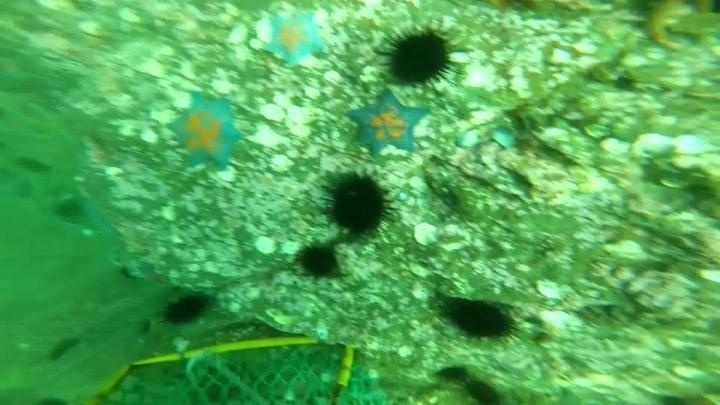echinus: (319, 168, 395, 241), (380, 24, 459, 90), (440, 294, 520, 344), (160, 289, 213, 327), (295, 240, 343, 281), (460, 376, 503, 404), (46, 334, 82, 364), (53, 195, 87, 225), (436, 362, 471, 386)
starfish: (345, 88, 432, 159), (167, 91, 244, 171), (260, 9, 328, 69)
